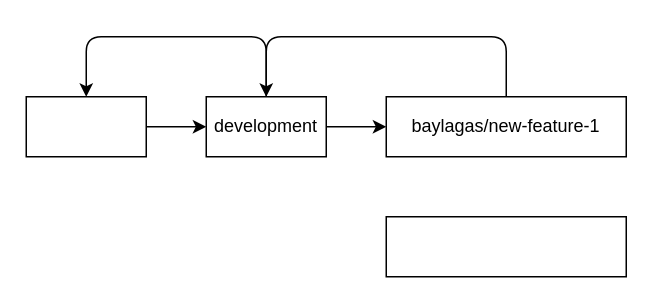
Image size: 653x303. Some labels were removed from this diagram. The shapes that lost their labels are listed below. From the top down, each one's centre as x and y in pixels, then its label:
At point (85, 126): "master".
At point (505, 246): "baylagas/new-feature-2".
